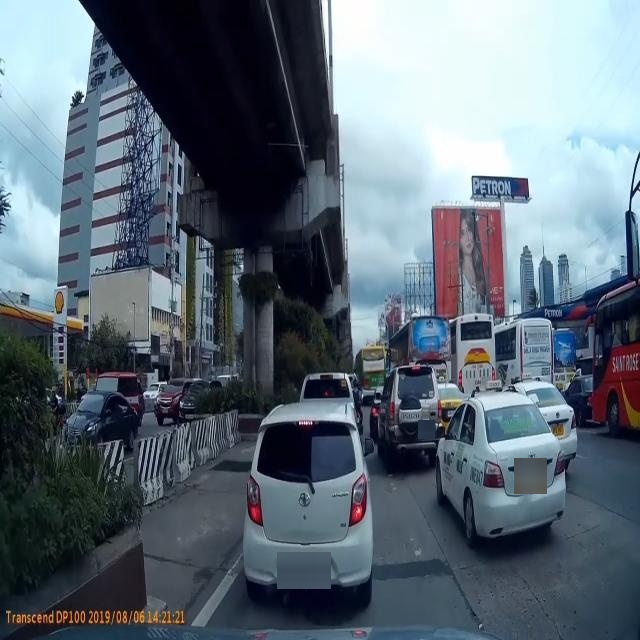bus: (595, 286, 640, 437), (442, 304, 510, 399), (358, 344, 387, 398)
car: (244, 391, 376, 613), (438, 381, 562, 552), (368, 358, 446, 464), (63, 388, 153, 456), (181, 374, 231, 430), (156, 372, 184, 425)
